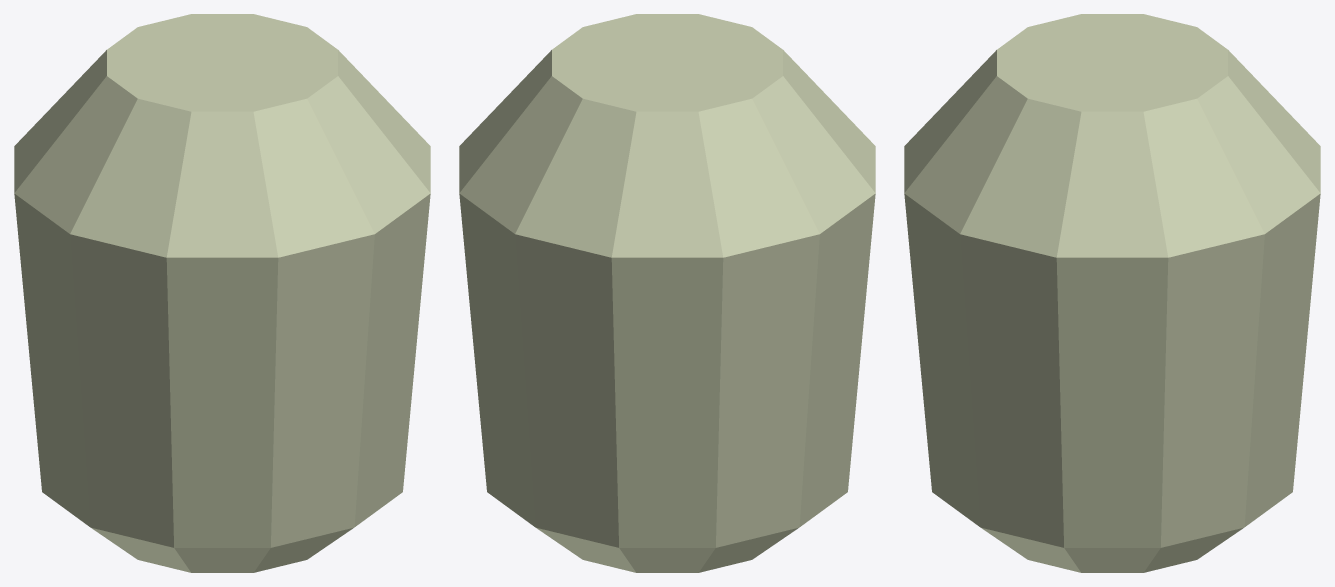
Rendered from alnair_us_fuel_tank_s2_s1_1_collider.obj.
The picture shows the model from 3 angles, left to right: view 1: azimuth 30°, elevation 25°; view 2: azimuth 150°, elevation 25°; view 3: azimuth 270°, elevation 25°; orthographic projection.
Visible parts, largest first — view 1: collider; view 2: collider; view 3: collider.
Part boxes in pixels (<box>): collider: <box>14,14,430,572</box>; collider: <box>459,14,875,572</box>; collider: <box>904,14,1320,572</box>.
Bounding box in the file's own units: 2.25 × 2.75 × 2.25.
